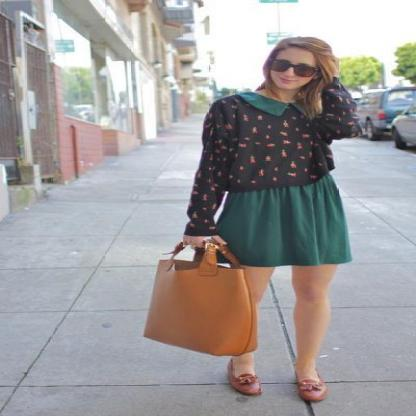bag: (143, 243, 256, 356)
dress: (212, 92, 351, 268)
jacket: (187, 83, 360, 236)
shoe: (222, 365, 326, 399)
sunglass: (263, 48, 329, 79)
